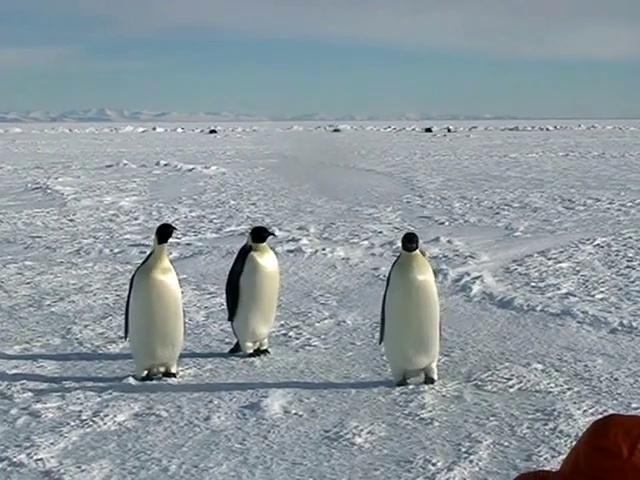animal: (380, 232, 439, 384)
